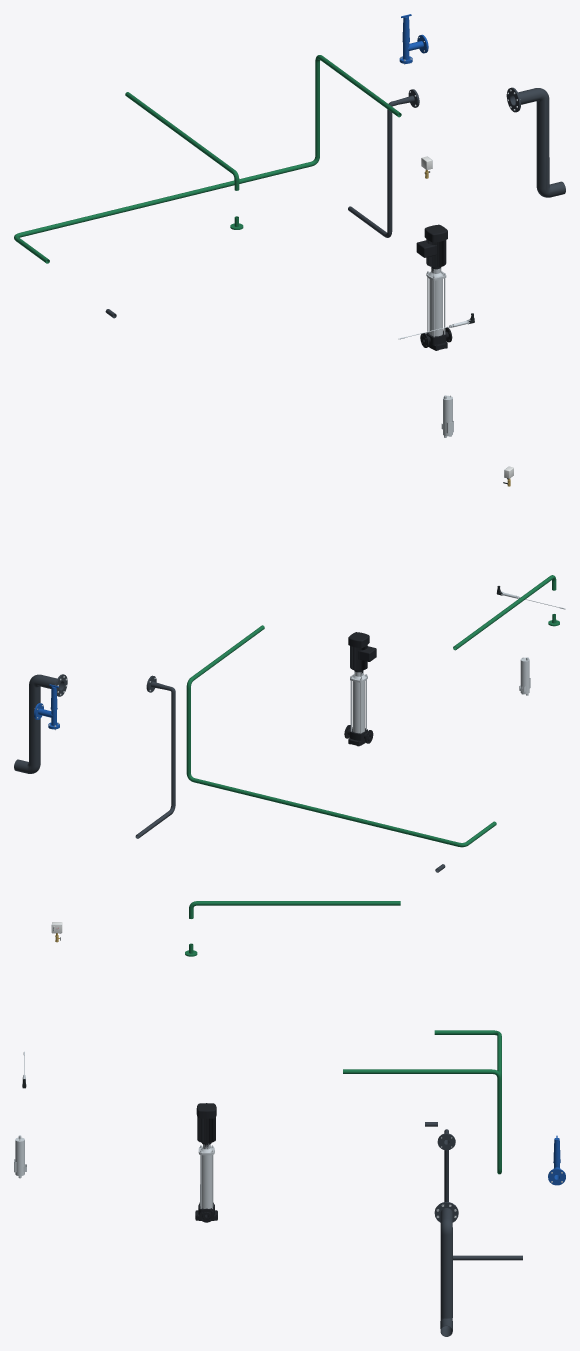
The model's file is s4000-1-DX9LCmdH.glb.
3 renders of one model, top to bottom at view 1: azimuth 30°, elevation 25°; view 2: azimuth 150°, elevation 25°; view 3: azimuth 270°, elevation 25°, orthographic. The views are drawn at different scales.
Visible parts, largest first — view 1: to_economizer / green, bdv_water_drain / dark, bottom_to_bdv / dark, pump_1 CAD solid 15, pump_1 CAD solid 2, direct_inlet / green, flash_steam_common / blue; view 2: to_economizer / green, bdv_water_drain / dark, bottom_to_bdv / dark, pump_1 CAD solid 15, pump_1 CAD solid 2, direct_inlet / green, flash_steam_common / blue; view 3: bdv_water_drain / dark, to_economizer / green, direct_inlet / green, bottom_to_bdv / dark, pump_1 CAD solid 15, pump_1 CAD solid 2.
Boxes of the visible parts, bbox=[...] form: to_economizer / green: bbox=[14, 55, 401, 263]; bdv_water_drain / dark: bbox=[506, 87, 565, 197]; bottom_to_bdv / dark: bbox=[348, 89, 419, 237]; pump_1 CAD solid 15: bbox=[416, 224, 447, 268]; pump_1 CAD solid 2: bbox=[429, 279, 442, 336]; direct_inlet / green: bbox=[139, 102, 239, 190]; flash_steam_common / blue: bbox=[399, 14, 428, 63]; to_economizer / green: bbox=[186, 625, 496, 847]; bdv_water_drain / dark: bbox=[14, 674, 67, 773]; bottom_to_bdv / dark: bbox=[135, 675, 175, 838]; pump_1 CAD solid 15: bbox=[348, 632, 376, 671]; pump_1 CAD solid 2: bbox=[352, 681, 364, 733]; direct_inlet / green: bbox=[467, 575, 556, 640]; flash_steam_common / blue: bbox=[34, 684, 59, 729]; bdv_water_drain / dark: bbox=[434, 1202, 458, 1336]; to_economizer / green: bbox=[343, 1030, 501, 1174]; direct_inlet / green: bbox=[189, 901, 374, 918]; bottom_to_bdv / dark: bbox=[437, 1129, 522, 1260]; pump_1 CAD solid 15: bbox=[196, 1103, 216, 1143]; pump_1 CAD solid 2: bbox=[200, 1155, 213, 1208].
Bounding box in the file's own units: 5.3 × 2.62 × 5.06.
